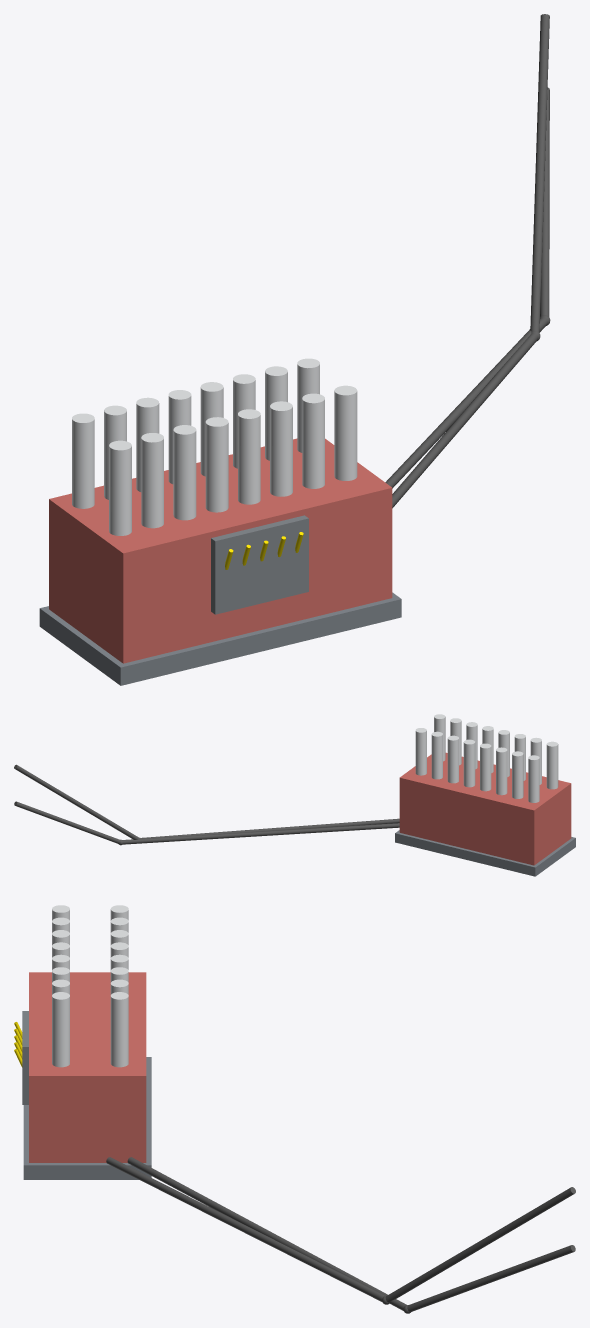
File: accumulator.glb
3 renders of one model, top to bottom at view 1: azimuth 30°, elevation 25°; view 2: azimuth 150°, elevation 25°; view 3: azimuth 270°, elevation 25°, orthographic. The views are drawn at different scales.
Size of the model in its own units: 13.26 by 3.75 by 10.53.
